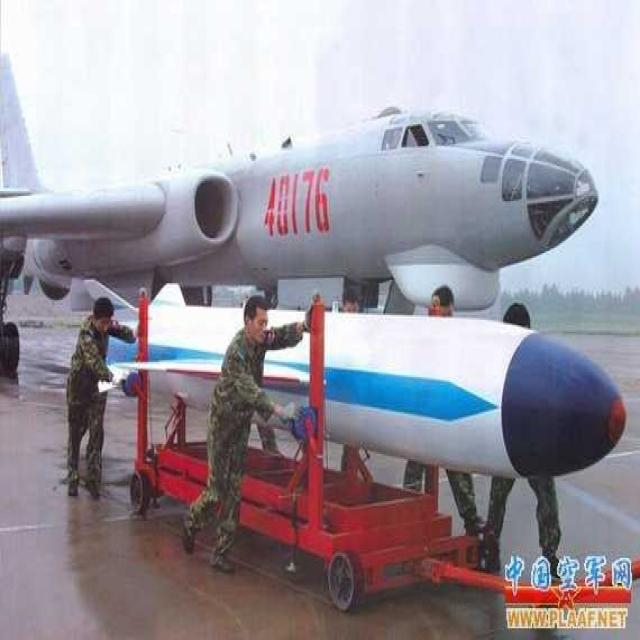missile: (82, 280, 626, 487)
